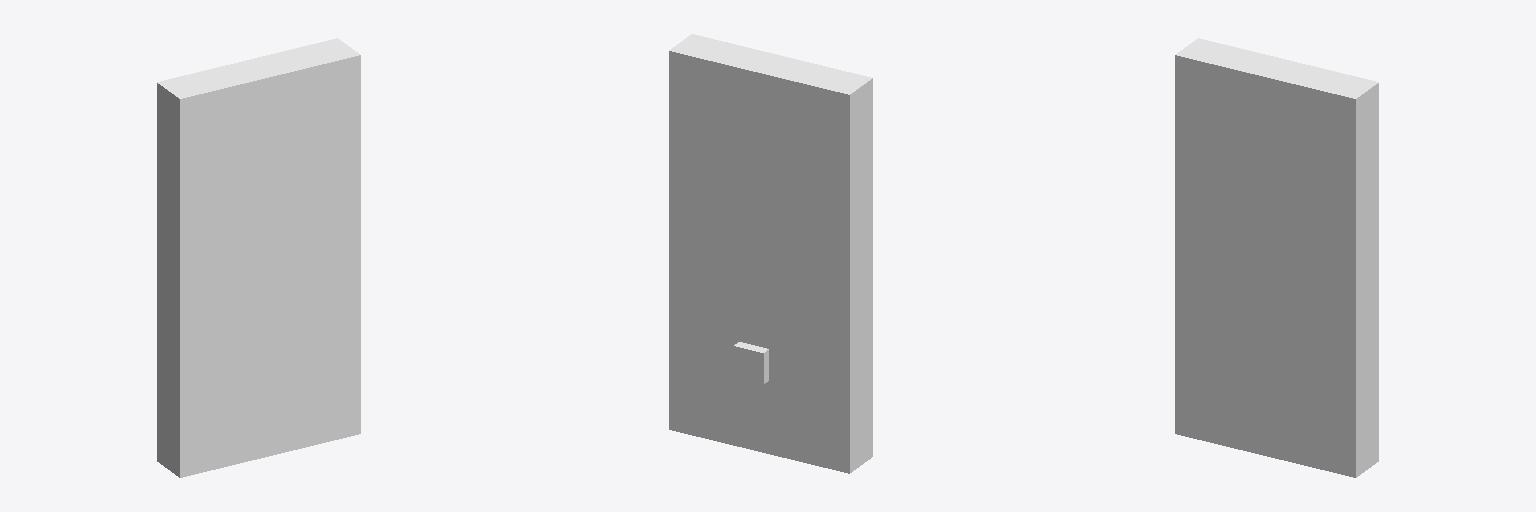
File: Faster-0.obj
3 renders of one model, left to right at view 1: azimuth 30°, elevation 25°; view 2: azimuth 150°, elevation 25°; view 3: azimuth 330°, elevation 25°, orthographic.
Visible parts, largest first — view 1: object 1; view 2: object 1; view 3: object 1.
Part boxes in pixels (bbox=[...]): object 1: bbox=[157, 38, 360, 477]; object 1: bbox=[669, 34, 872, 473]; object 1: bbox=[1175, 38, 1378, 477].
Size of the model in its own units: 1.8 by 3.6 by 0.5.